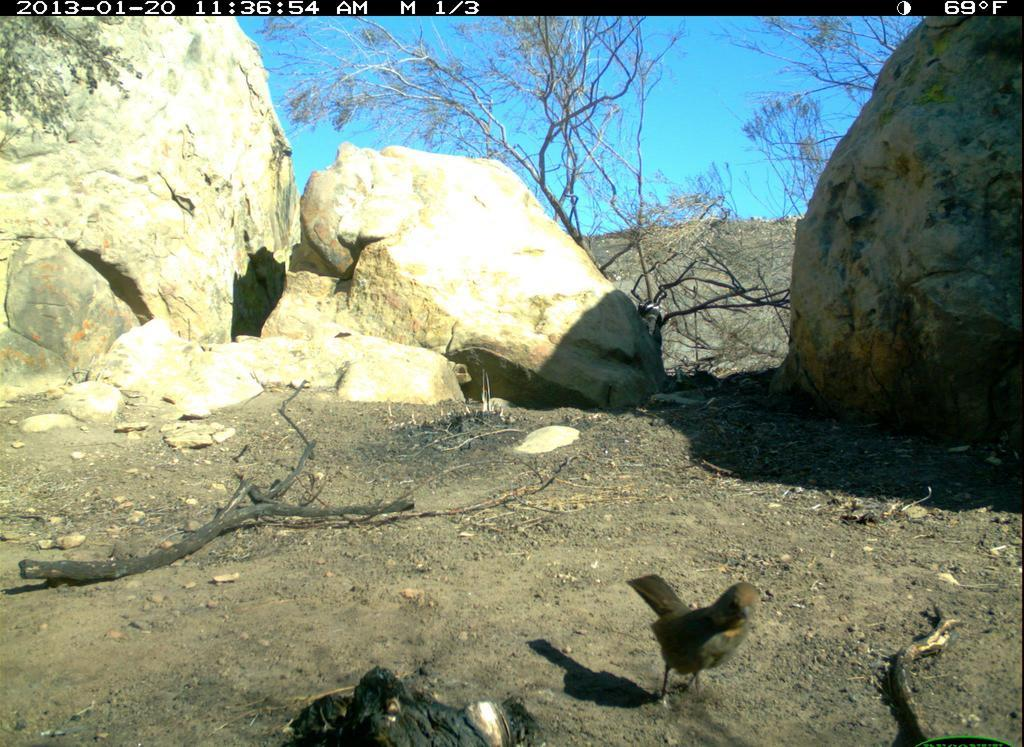bird: (616, 561, 774, 707)
